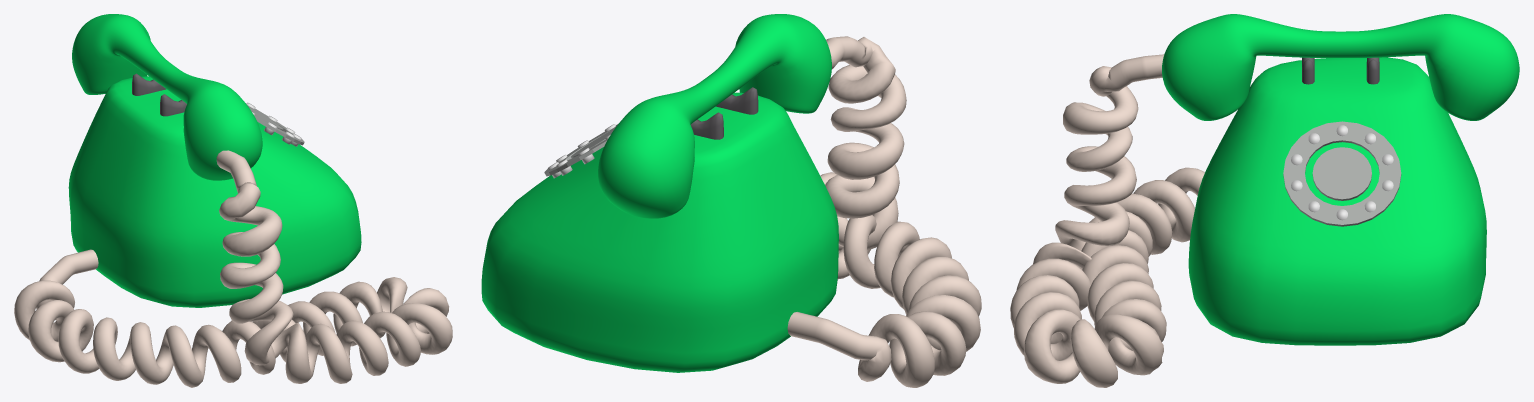
The model's file is RenderTelefono2.fbx.
3 views of the same model, side by side, from view 1: azimuth 30°, elevation 25°; view 2: azimuth 150°, elevation 25°; view 3: azimuth 270°, elevation 25° (orthographic). The views are drawn at different scales.
Visible parts, largest first — view 1: Plane, Spiral, Cube, Plane.001, Circle; view 2: Plane, Spiral, Cube, Plane.001, Circle, Cylinder.001; view 3: Plane, Spiral, Cube, Circle, Cylinder.001, Plane.001.
Part boxes in pixels (bbox=[...]): Plane: bbox=[68, 76, 361, 307]; Spiral: bbox=[14, 150, 452, 387]; Cube: bbox=[72, 14, 262, 180]; Plane.001: bbox=[132, 73, 186, 116]; Circle: bbox=[246, 103, 304, 145]; Plane: bbox=[481, 92, 838, 372]; Spiral: bbox=[787, 36, 981, 387]; Cube: bbox=[598, 14, 831, 218]; Plane.001: bbox=[691, 87, 758, 139]; Circle: bbox=[544, 124, 617, 176]; Cylinder.001: bbox=[548, 124, 615, 178]; Plane: bbox=[1188, 57, 1486, 345]; Spiral: bbox=[1010, 54, 1204, 387]; Cube: bbox=[1162, 14, 1519, 120]; Circle: bbox=[1283, 121, 1401, 226]; Cylinder.001: bbox=[1291, 125, 1393, 220]; Plane.001: bbox=[1302, 57, 1379, 84].
Size of the model in its own units: 1268 by 884 by 1418.
